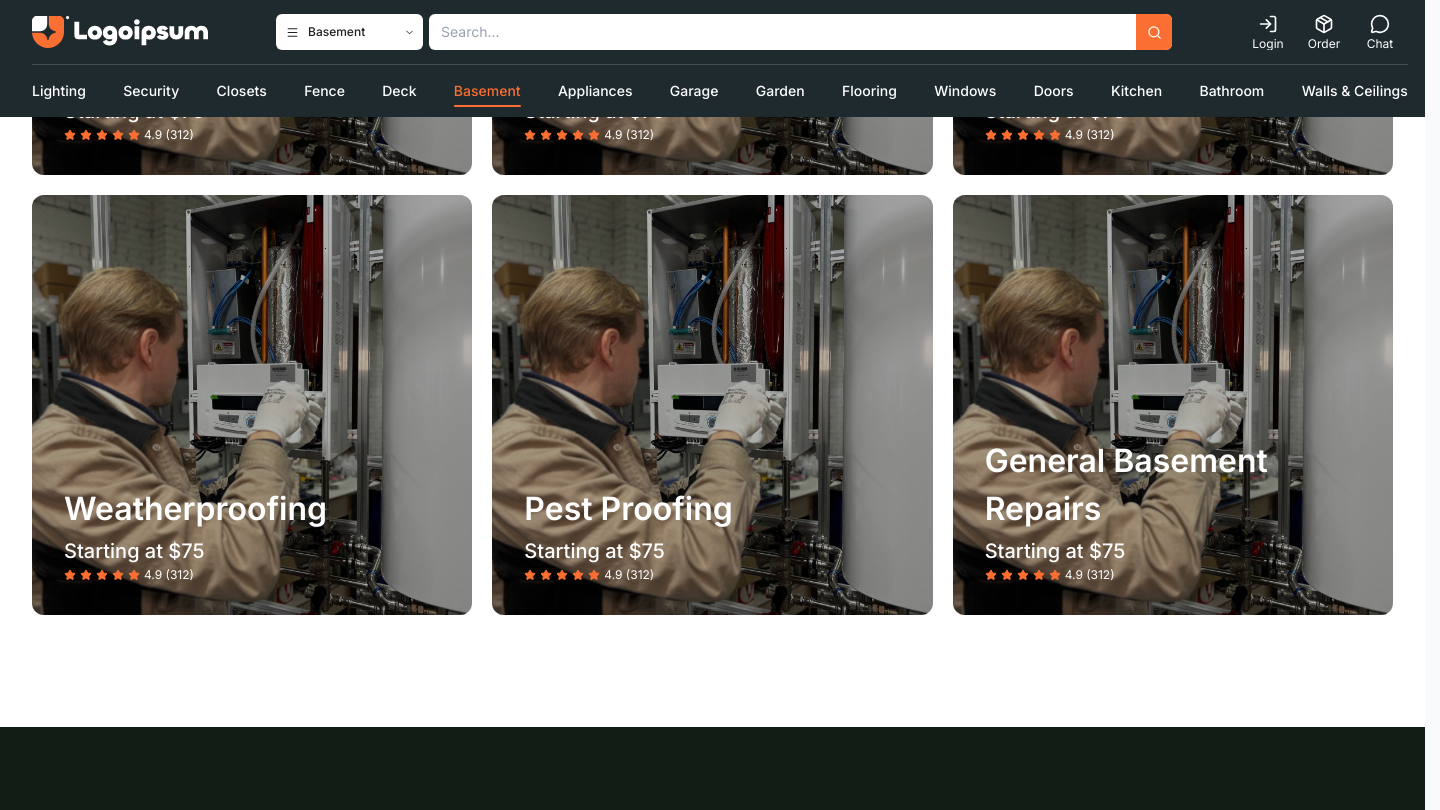
Basement page › opens child services when a subcategory card is clicked
The image size is (1440, 810).
(page scrolled)
Click the button "Pest Proofing Starting at $75 4.9 (312)" at (712, 405), box [492,195,933,615]
(page scrolled)
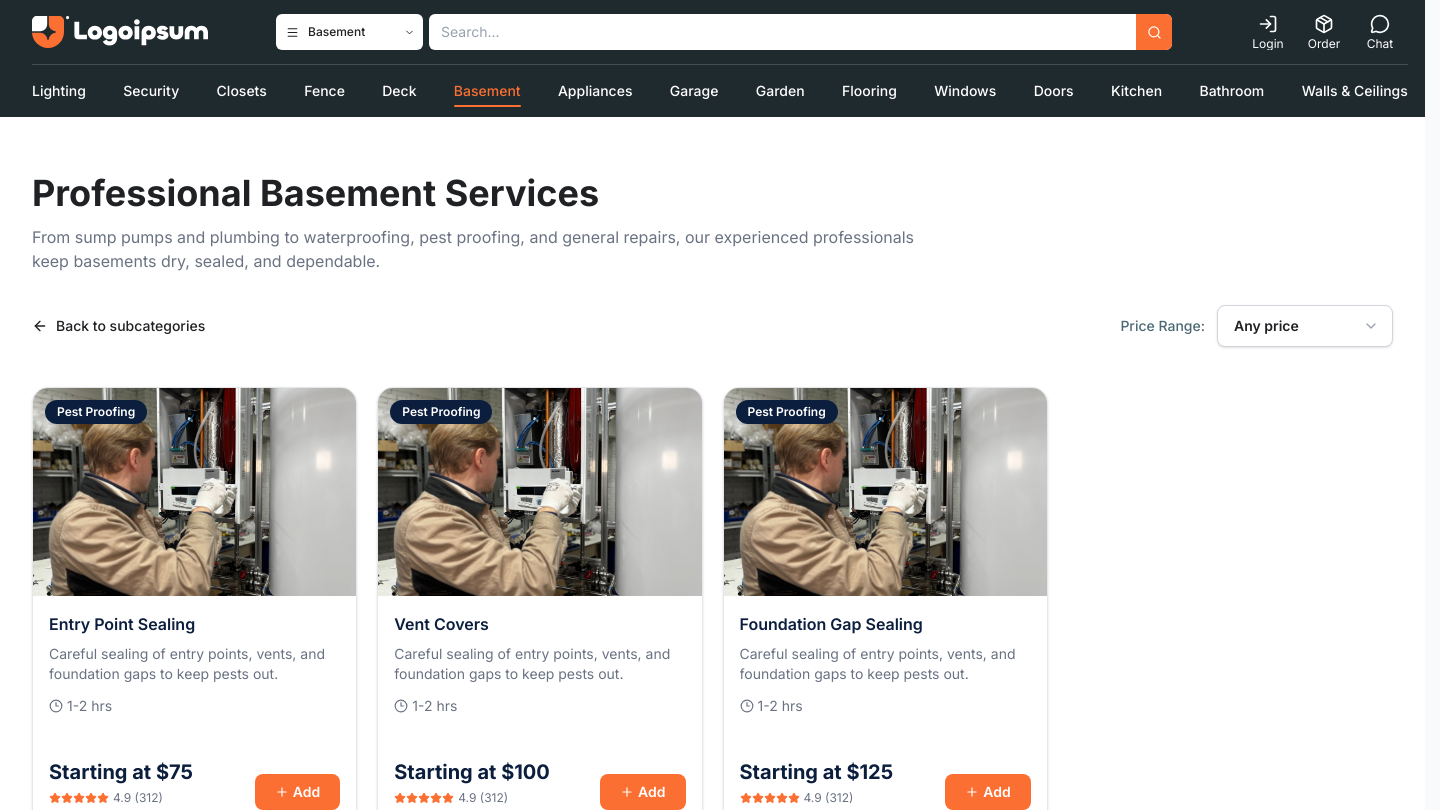
Expected: the heading "Vent Covers" is shown, [394,614,489,634]
Expected: the button "Back to subcategories" is shown, [32,316,205,336]
